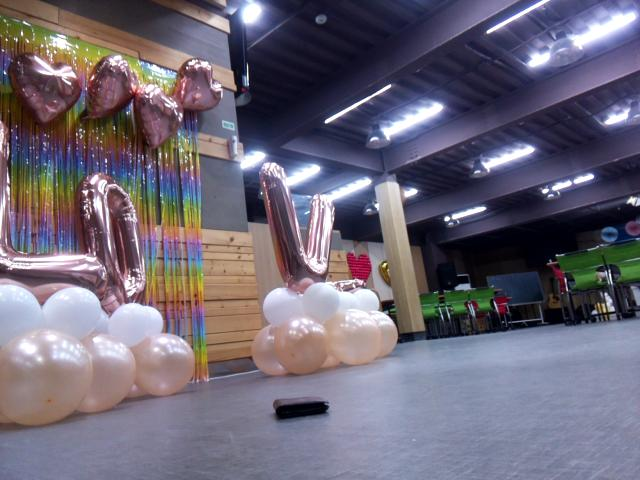wallet: (265, 388, 337, 425)
